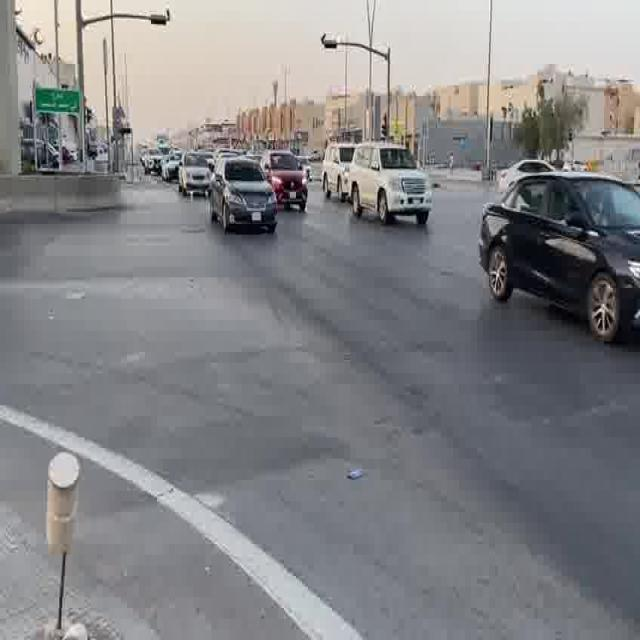bus: (215, 155, 278, 234), (264, 152, 310, 212), (178, 150, 217, 195), (322, 146, 355, 199), (502, 160, 554, 190), (160, 154, 181, 184), (141, 153, 163, 177)
car: (179, 209, 640, 640)
lanes: (226, 209, 639, 634)
lanes2: (260, 205, 640, 474)
lanes3: (286, 201, 640, 404)
lanes4: (327, 192, 640, 313)
motorbike: (478, 166, 639, 341), (345, 146, 435, 224)
